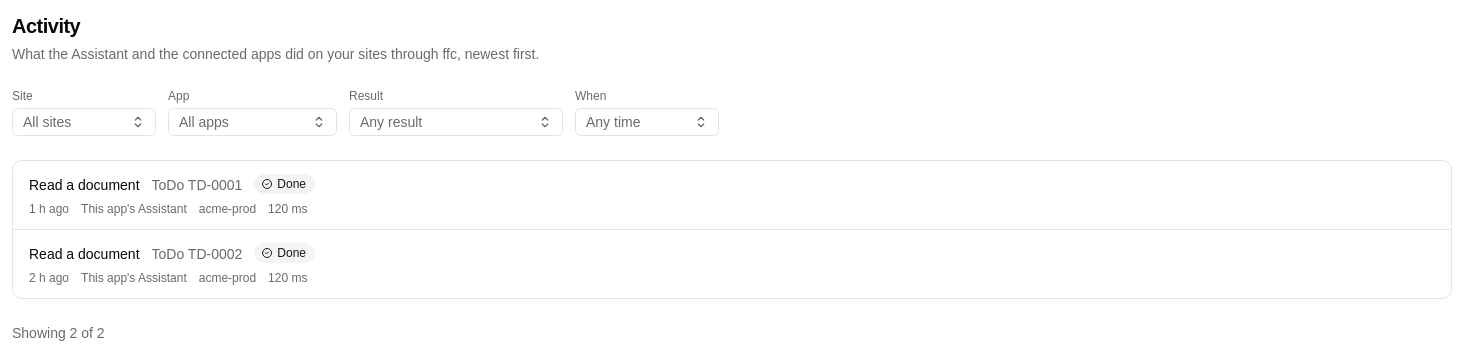
Test case: activity screen › says nothing matches when filters match nothing, and clears them
Check: the list named "Tool calls" is shown, box [12, 160, 1452, 299]
Select "Refused by the safety rules" in the dropdown labelled "Result" at (456,122), box [349, 108, 563, 136]
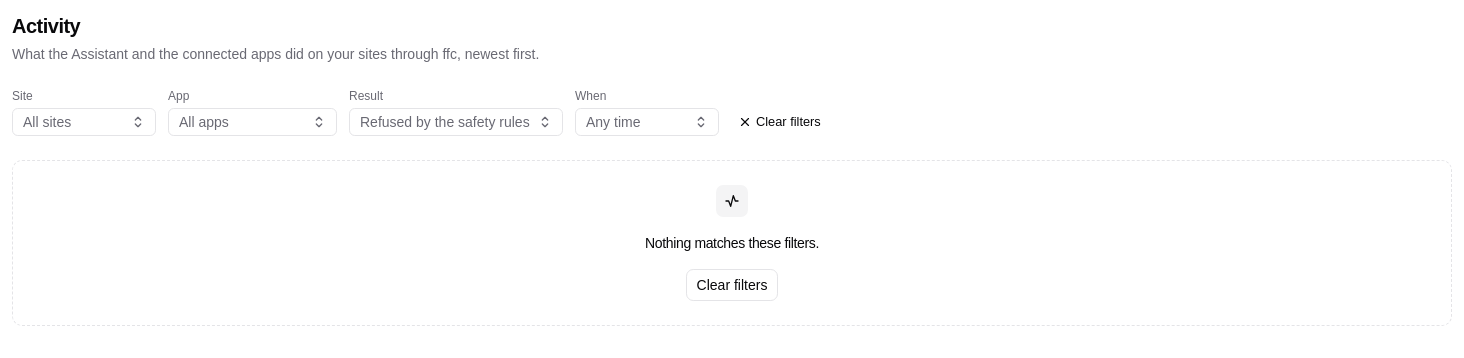
Check: the text "Nothing matches these filters." is shown, box [645, 233, 819, 253]
Click the button "Clear filters" below "Nothing matches these filters." at (732,285), box [686, 269, 778, 301]
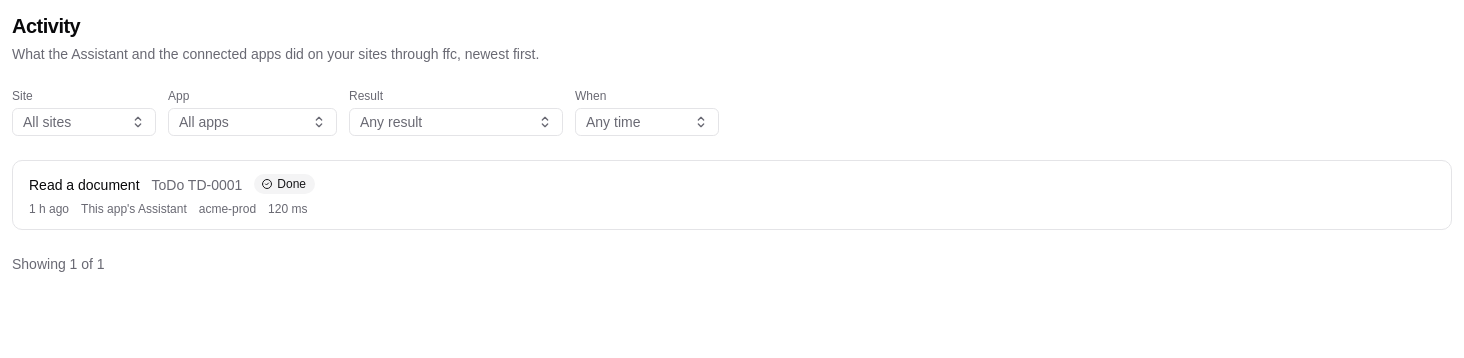
Check: the text "Nothing matches these filters." is gone
